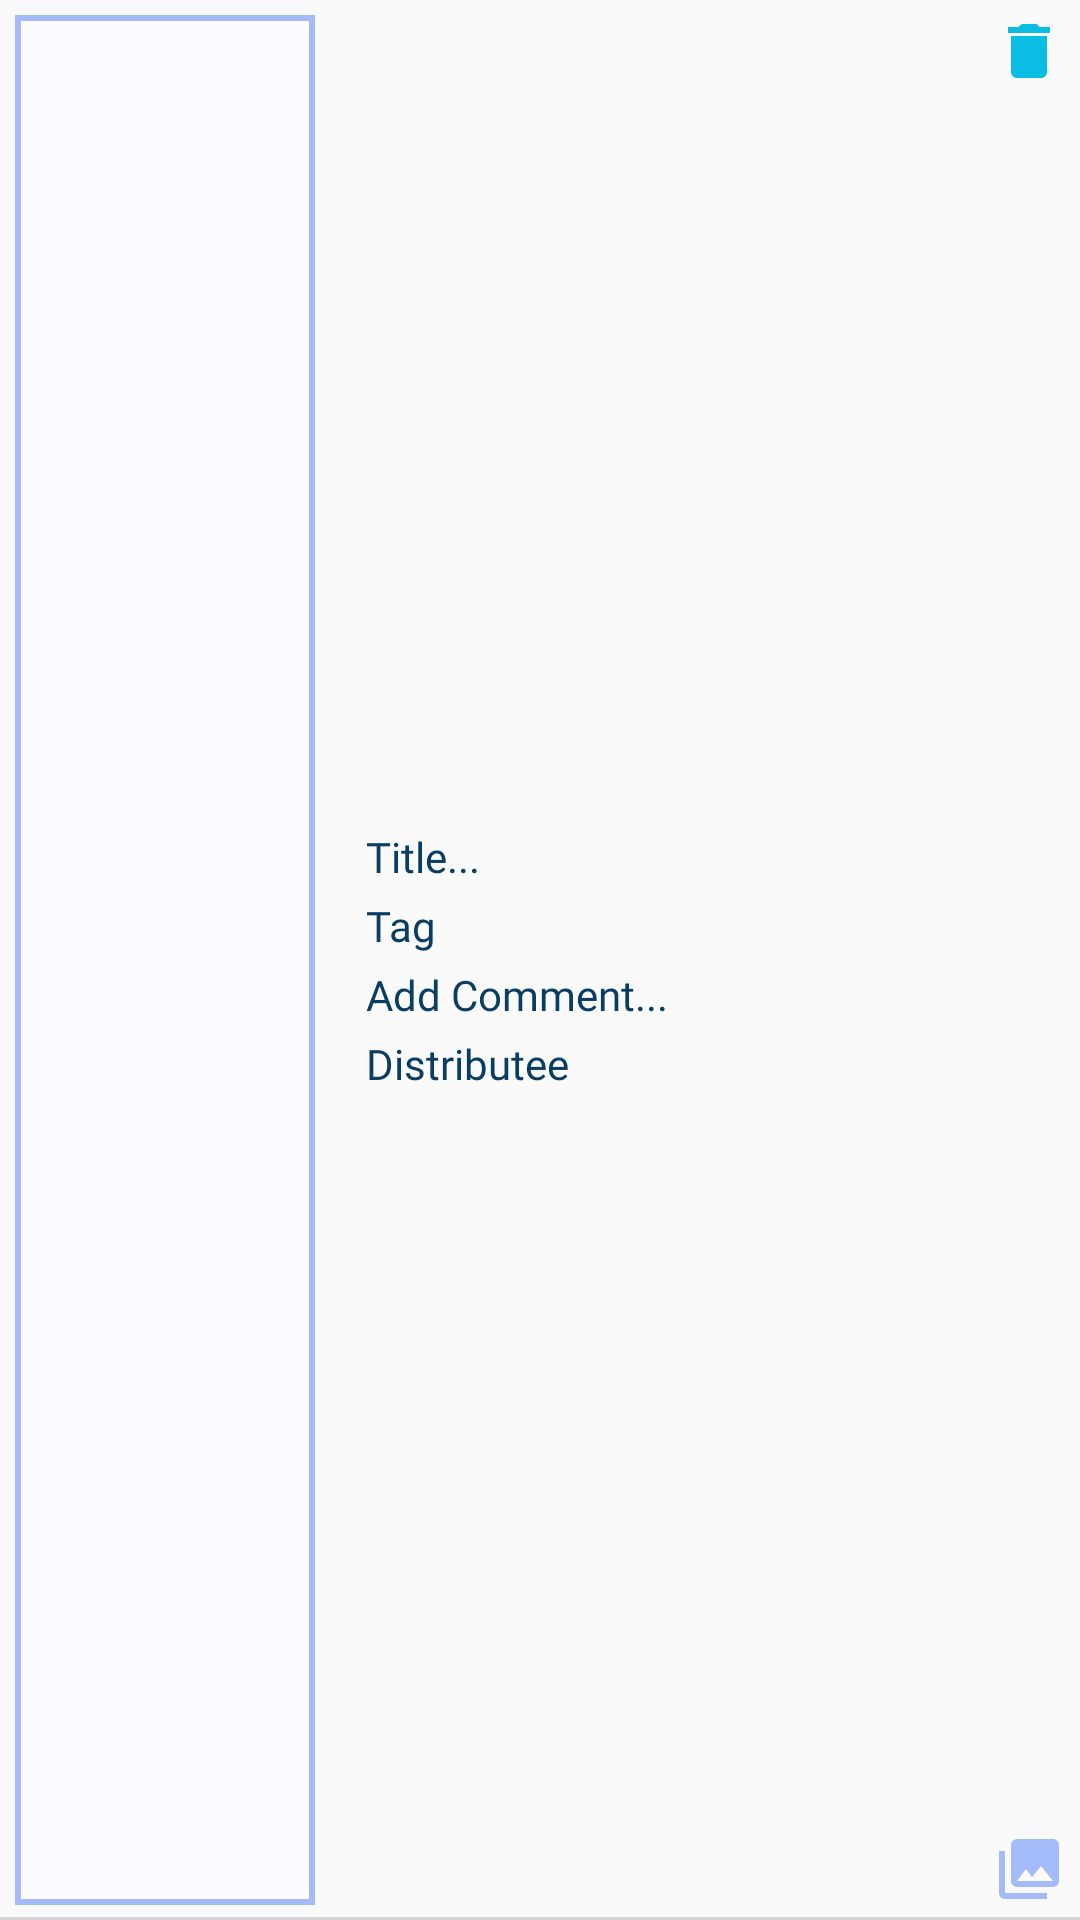

Screen size 1080px×1920px. Icon name, then its center in pixels as (x=x, y=y):
delete: (x=1029, y=51)
